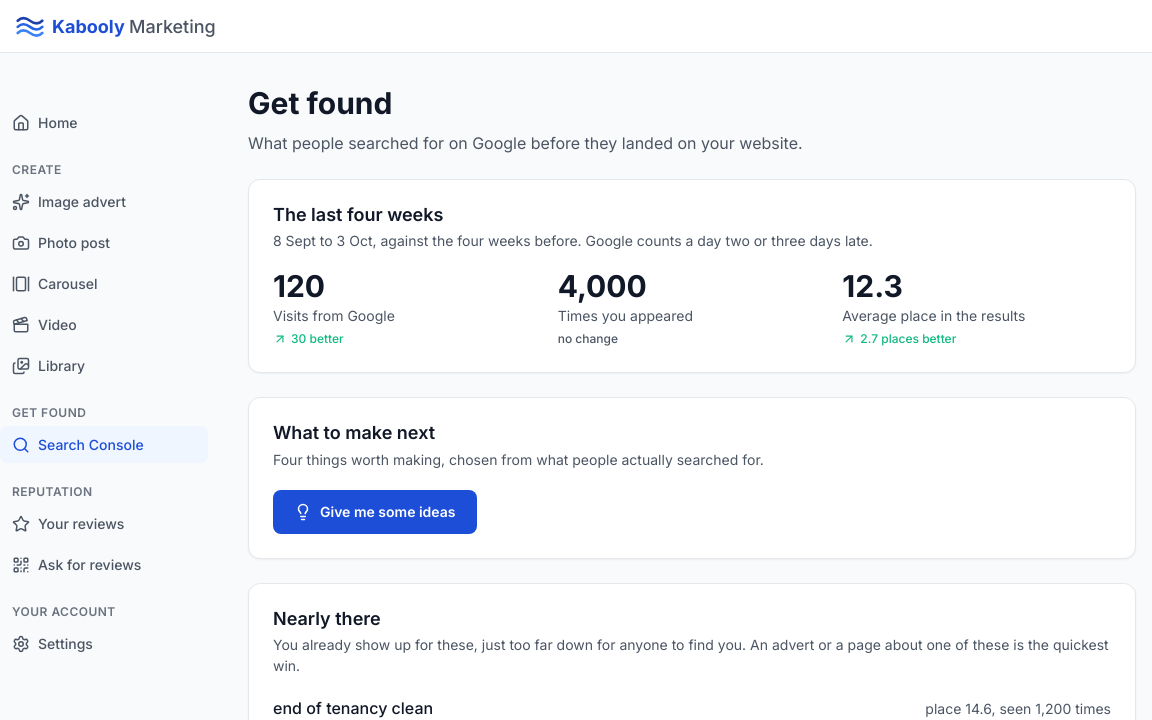
Scenario: get found › says so when there is not enough search data for ideas yet
Click the button with test id "ask-ideas" at (375, 512), box [273,490,476,534]
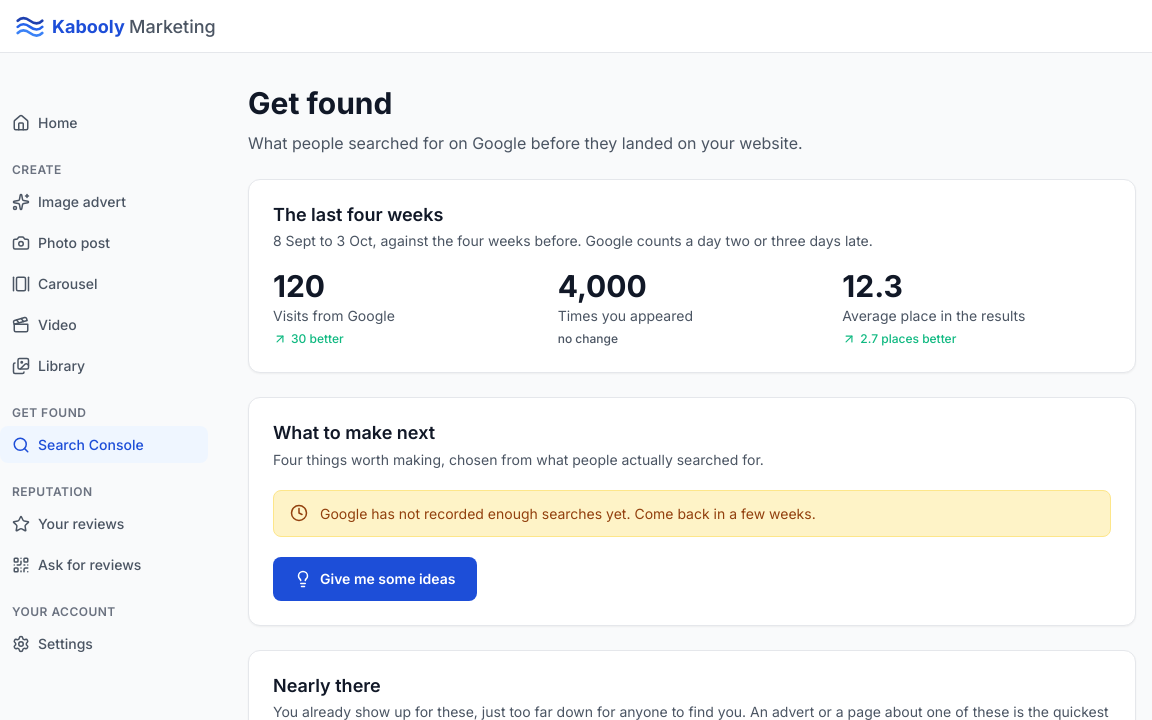
Expected: the text "has not recorded enough searches yet" is shown, [320,504,816,522]
